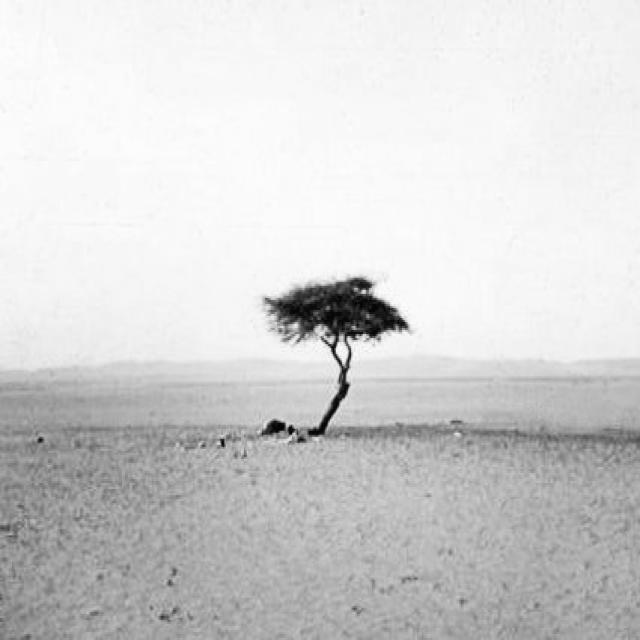Acacia: (253, 269, 417, 447)
